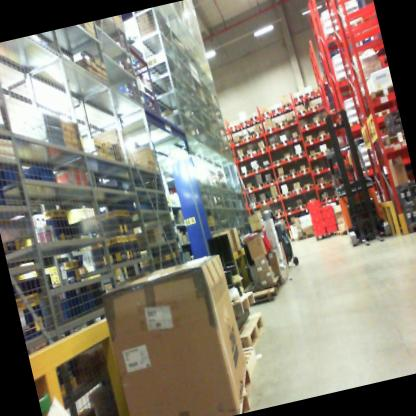forklift: (310, 101, 399, 261)
pallet: (224, 300, 281, 352), (225, 363, 268, 412), (232, 339, 274, 372), (226, 284, 262, 318), (253, 270, 289, 297), (249, 284, 285, 309), (373, 130, 405, 157), (364, 80, 394, 106), (294, 226, 319, 245), (316, 226, 340, 243), (400, 220, 416, 239), (336, 226, 351, 241)
small_load_carrier: (258, 229, 276, 257), (311, 223, 329, 238), (304, 197, 323, 211), (324, 220, 340, 234), (309, 214, 326, 227), (321, 212, 338, 224), (306, 207, 324, 218), (321, 203, 336, 215)
